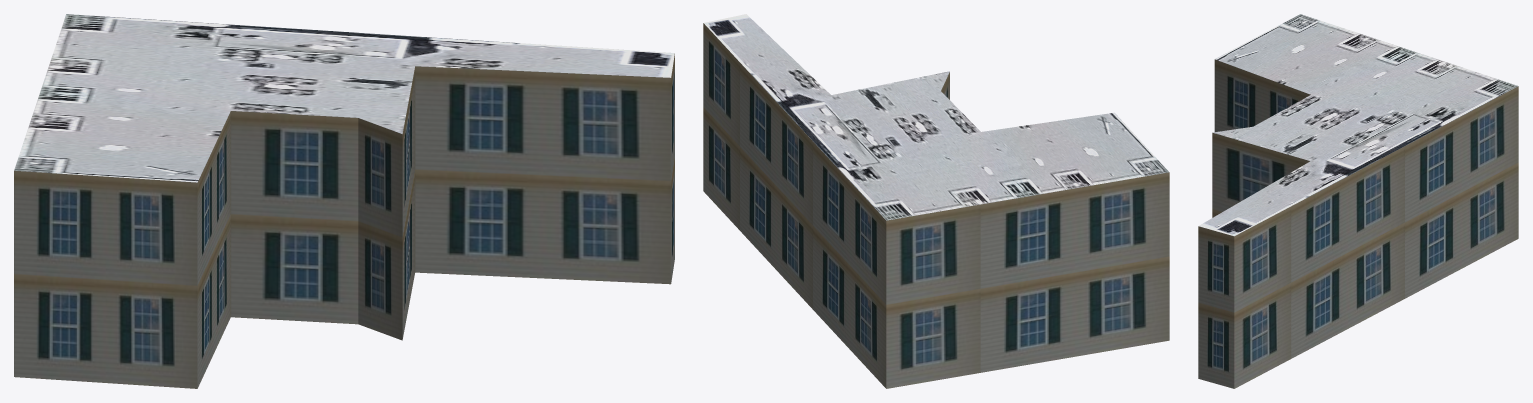
File: ResTex__4268.fbx
The picture shows the model from 3 angles, left to right: view 1: azimuth 30°, elevation 25°; view 2: azimuth 150°, elevation 25°; view 3: azimuth 270°, elevation 25°; orthographic projection. The views are drawn at different scales.
Parts seen in each view (by area): view 1: CityEngineMaterial_7_m, CityEngineMaterial_15_m; view 2: CityEngineMaterial_7_m, CityEngineMaterial_15_m; view 3: CityEngineMaterial_7_m, CityEngineMaterial_15_m.
Part boxes in pixels (x1,y1,x2,y2): CityEngineMaterial_7_m: [14, 54, 674, 388]; CityEngineMaterial_15_m: [14, 14, 674, 182]; CityEngineMaterial_7_m: [703, 23, 1169, 388]; CityEngineMaterial_15_m: [704, 14, 1168, 220]; CityEngineMaterial_7_m: [1198, 59, 1518, 388]; CityEngineMaterial_15_m: [1198, 14, 1518, 236].
Size of the model in its own units: 18.74 by 6 by 11.42.
2 materials, 2 textured.
